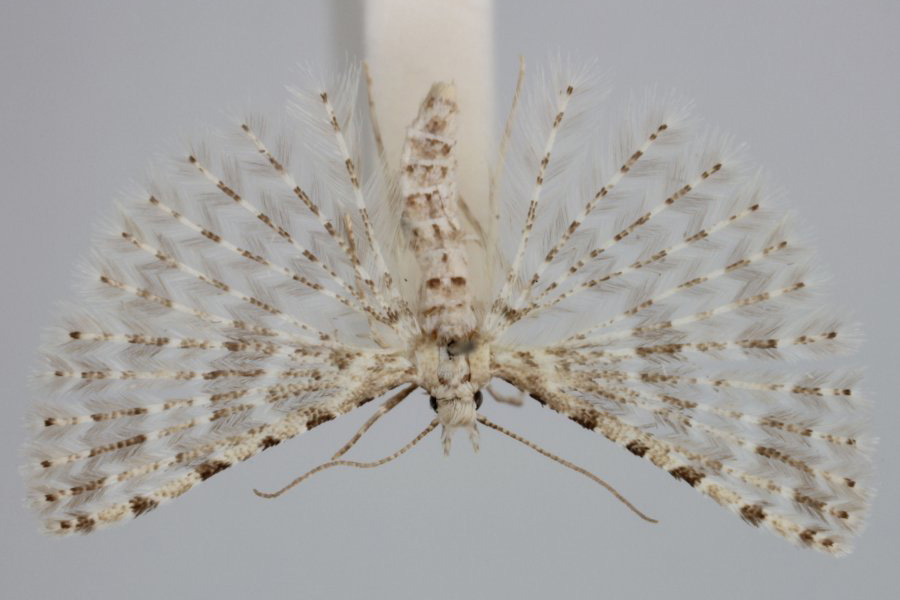Alucitidae: (12, 44, 875, 544)
moth: (14, 46, 877, 546)
